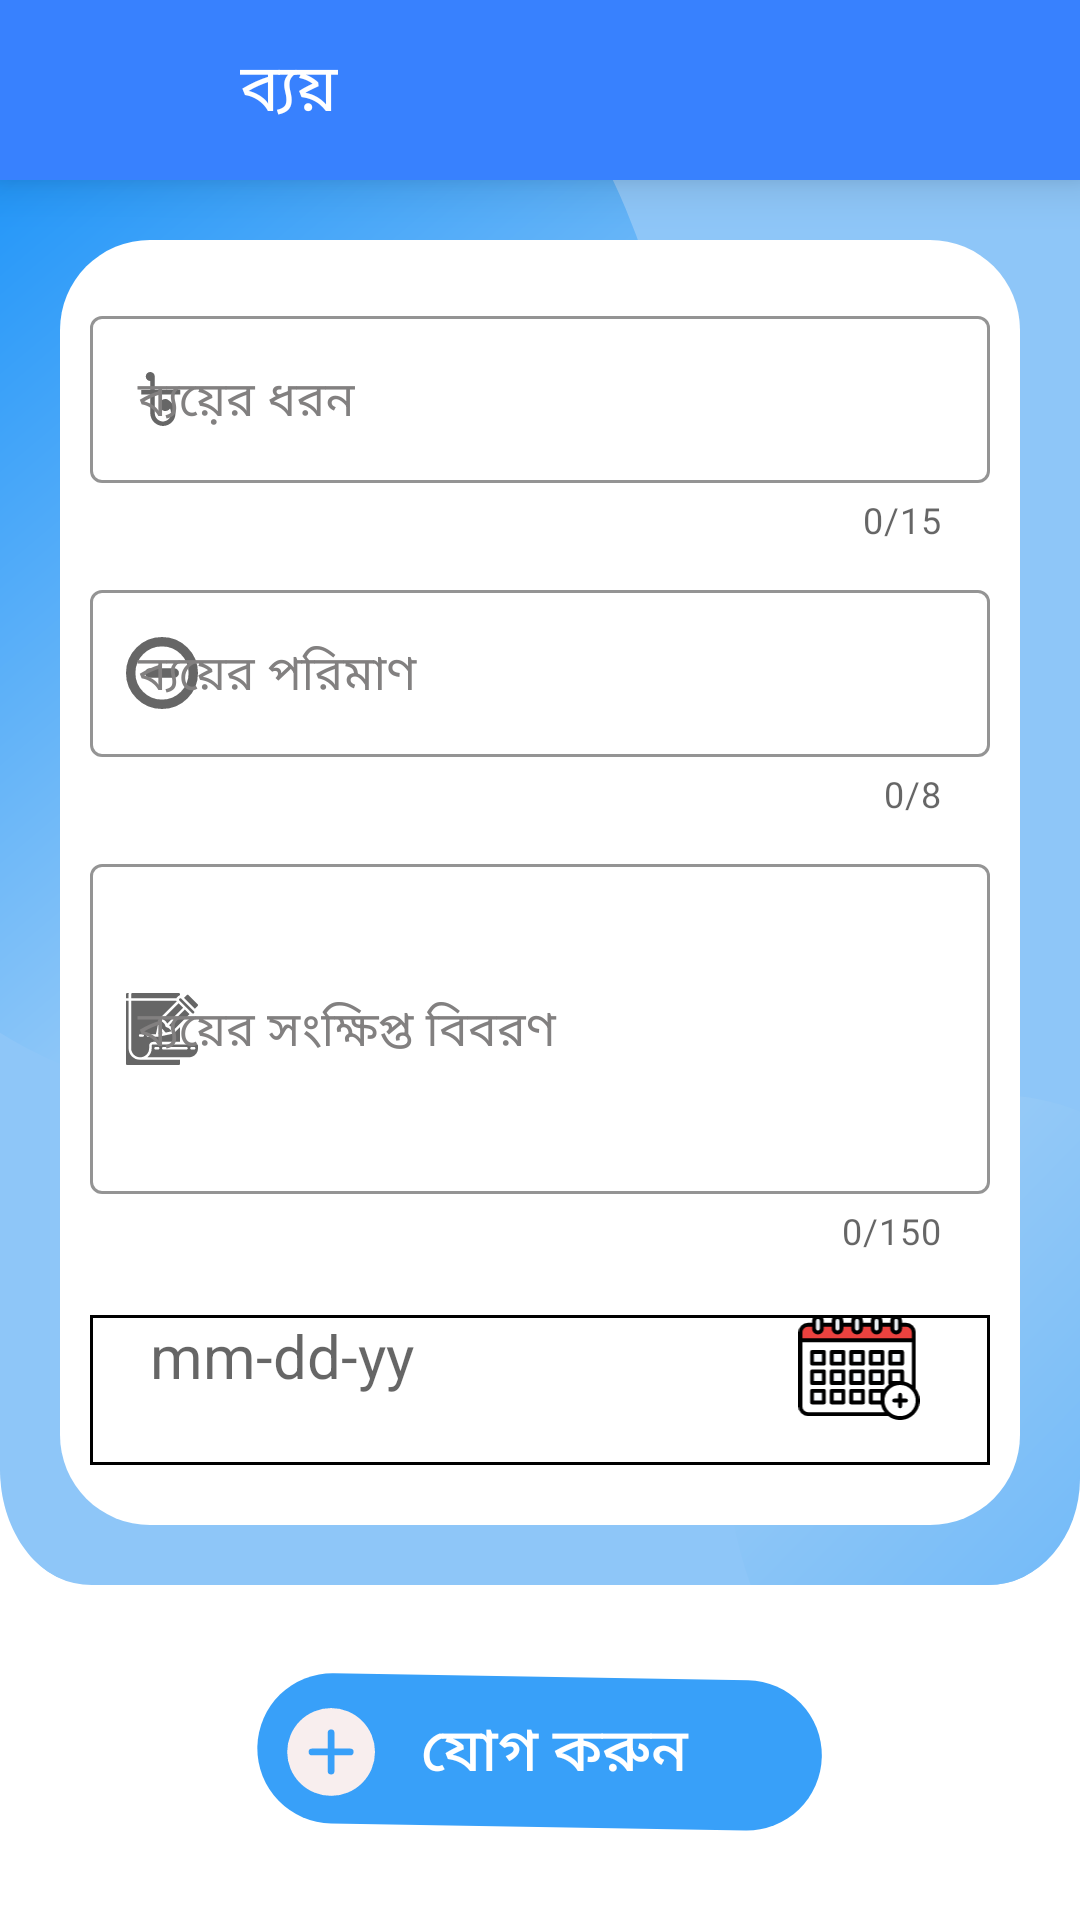

Point at icon controls on the screen. Image size 1080 x 1920, points as (x,y).
calender: (859,1367)
